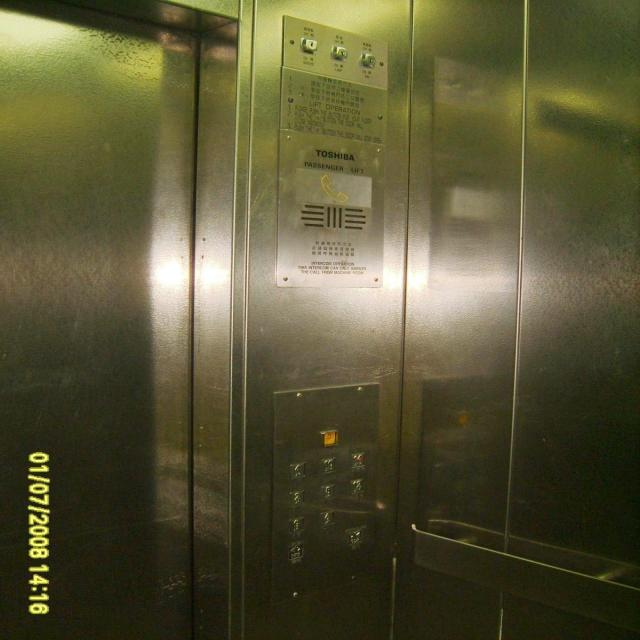1: (288, 514, 307, 536)
10: (318, 454, 337, 476)
12: (347, 478, 369, 498)
14: (347, 450, 368, 470)
2: (288, 487, 307, 509)
4: (288, 461, 308, 483)
6: (318, 508, 337, 530)
8: (319, 481, 338, 503)
alarm: (317, 428, 341, 448)
close: (345, 529, 365, 545)
keyhole: (298, 36, 321, 56), (328, 44, 350, 63), (356, 53, 379, 70)
open: (285, 540, 305, 562)
